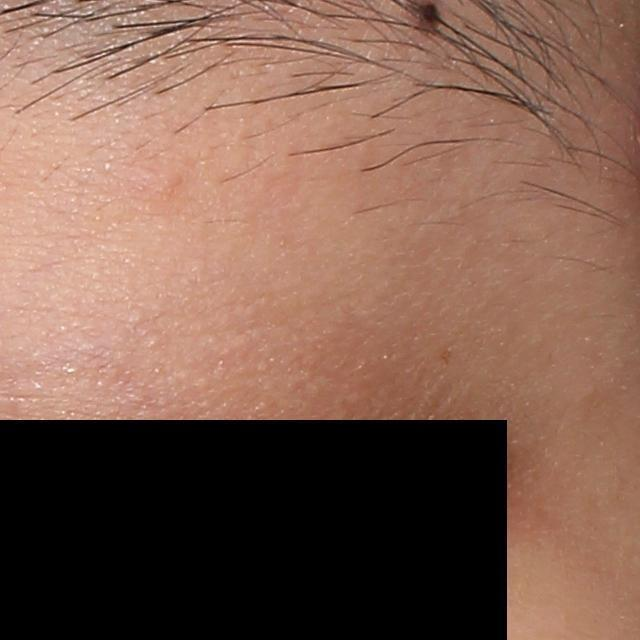melasma: (437, 349, 455, 367)
